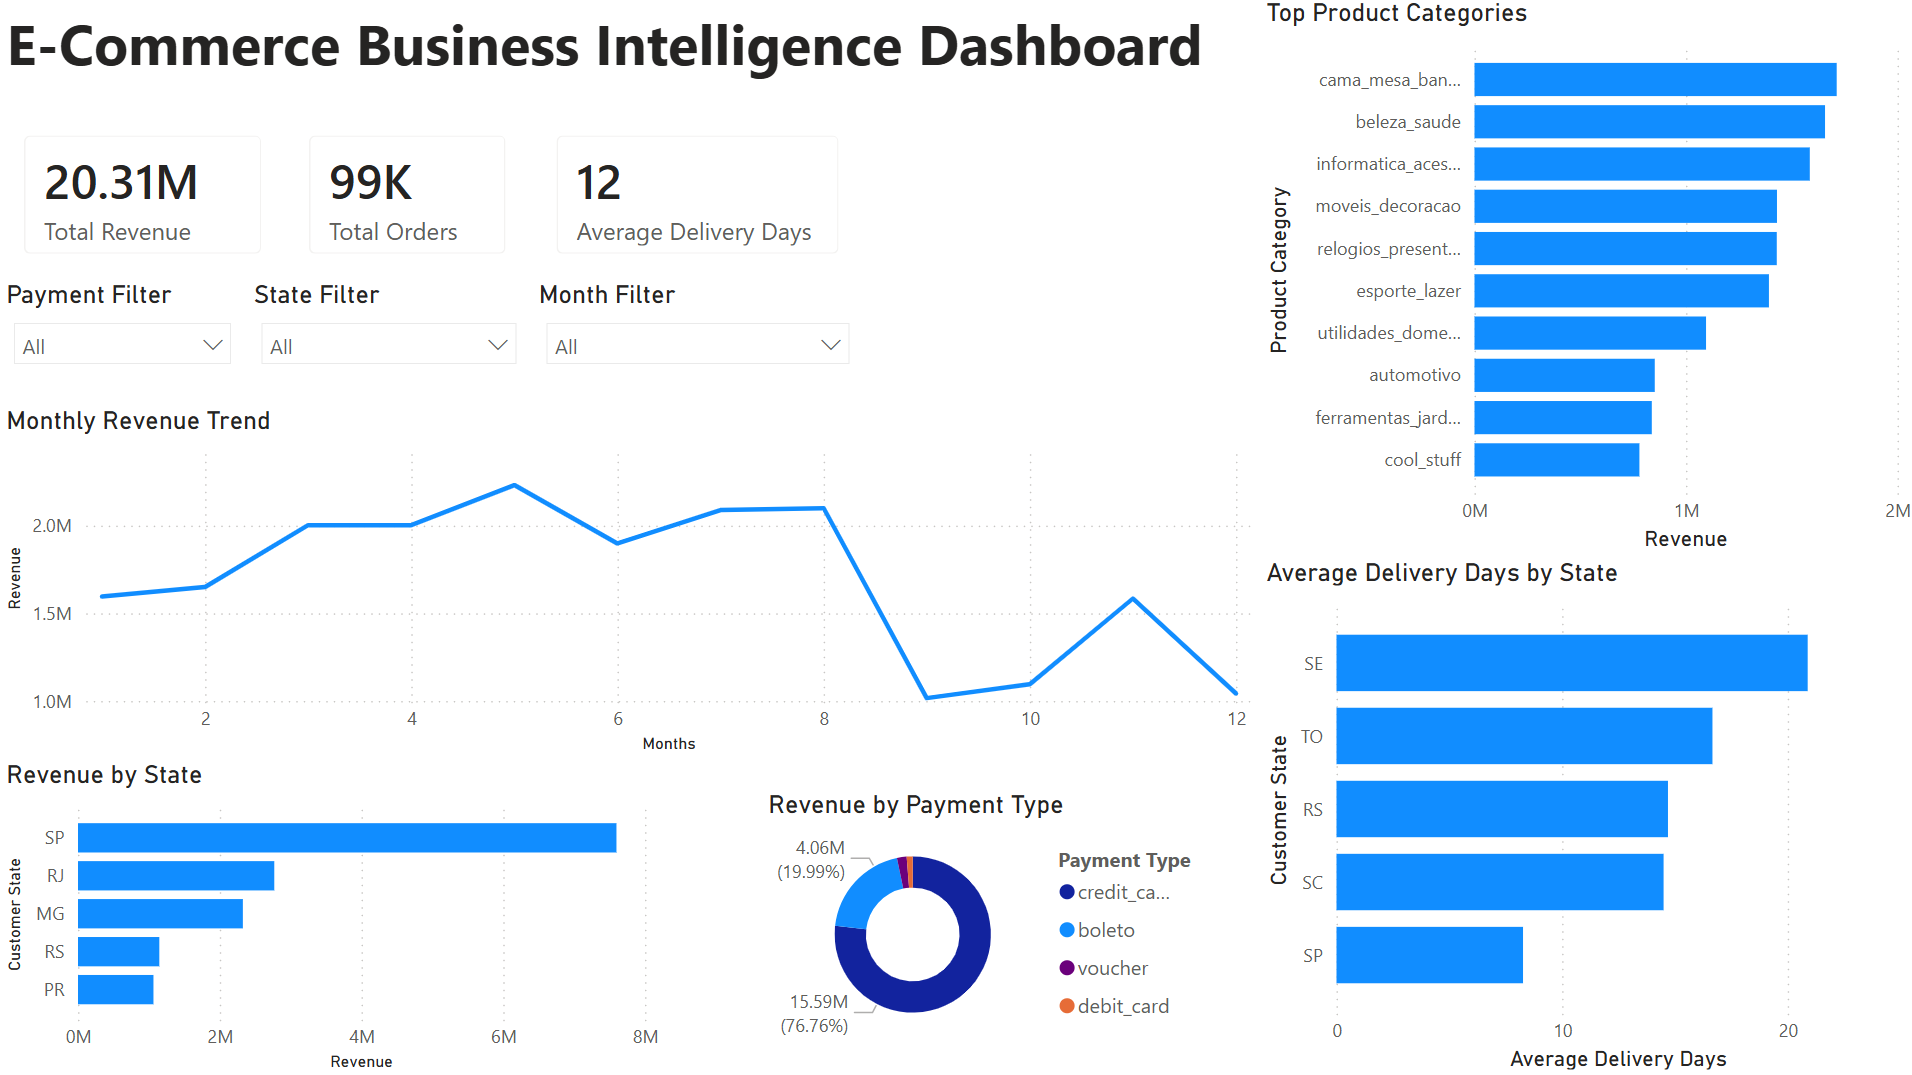

Layout of this report page (visuals, bound fields, positions):
{"tool":"powerbi","page":{"name":"Page 1","canvas":[1280,720],"ordinal":0},"visuals":[{"type":"cardVisual","title":"Total Revenue","fields":{"Data":["Sum(dashboard_dataset.payment_value)"]},"box":[0,75,191.7,113.3],"z":0},{"type":"cardVisual","fields":{"Data":["dashboard_dataset.Total Orders"]},"box":[190,75,165,113.3],"z":1},{"type":"cardVisual","fields":{"Data":["dashboard_dataset.Average Delivery Days"]},"box":[355,75,221.7,113.3],"z":2},{"type":"lineChart","title":"Monthly Revenue Trend","fields":{"Category":["dashboard_dataset.purchase_month"],"Y":["Sum(dashboard_dataset.payment_value)"]},"box":[0,271.7,840,236.7],"z":3},{"type":"clusteredBarChart","title":"Revenue by State","fields":{"Category":["dashboard_dataset.customer_state"],"Y":["Sum(dashboard_dataset.payment_value)"]},"box":[0,508.3,445,211.7],"z":4},{"type":"donutChart","title":"Revenue by Payment Type","fields":{"Category":["dashboard_dataset.payment_type"],"Y":["Sum(dashboard_dataset.payment_value)"]},"box":[508.3,528.3,296.7,173.3],"z":5},{"type":"clusteredBarChart","title":"Top Product Categories","fields":{"Category":["dashboard_dataset.product_category_name"],"Y":["Sum(dashboard_dataset.payment_value)"]},"box":[840,0,440,373.3],"z":6},{"type":"clusteredBarChart","title":"Average Delivery Days by State","fields":{"Y":["Avg(dashboard_dataset.delivery_days)"],"Category":["dashboard_dataset.customer_state"]},"box":[840,373.3,440,346.7],"z":7},{"type":"slicer","title":"Payment Filter","fields":{"Values":["dashboard_dataset.payment_type"]},"box":[0,188.3,165,75],"z":8},{"type":"slicer","title":"State Filter","fields":{"Values":["dashboard_dataset.customer_state"]},"box":[165,188.3,190,75],"z":9},{"type":"textbox","box":[0,0,840,75],"z":11},{"type":"slicer","title":"Month Filter","fields":{"Values":["dashboard_dataset.purchase_month"]},"box":[355,188.3,221.7,75],"z":12}]}

Visuals, with their boxes in screenshot pixels (x1, y1, x2, y2), scaled from the page's 1280x720 canvas onto the 1912x1075 screenshot:
"Total Revenue" cardVisual: select_region(0, 112, 286, 281)
cardVisual - dashboard_dataset.Total Orders: select_region(284, 112, 530, 281)
cardVisual - dashboard_dataset.Average Delivery Days: select_region(530, 112, 861, 281)
"Monthly Revenue Trend" lineChart: select_region(0, 406, 1255, 759)
"Revenue by State" clusteredBarChart: select_region(0, 759, 665, 1074)
"Revenue by Payment Type" donutChart: select_region(759, 789, 1202, 1048)
"Top Product Categories" clusteredBarChart: select_region(1255, 0, 1911, 557)
"Average Delivery Days by State" clusteredBarChart: select_region(1255, 557, 1911, 1074)
"Payment Filter" slicer: select_region(0, 281, 246, 393)
"State Filter" slicer: select_region(246, 281, 530, 393)
textbox: select_region(0, 0, 1255, 112)
"Month Filter" slicer: select_region(530, 281, 861, 393)
